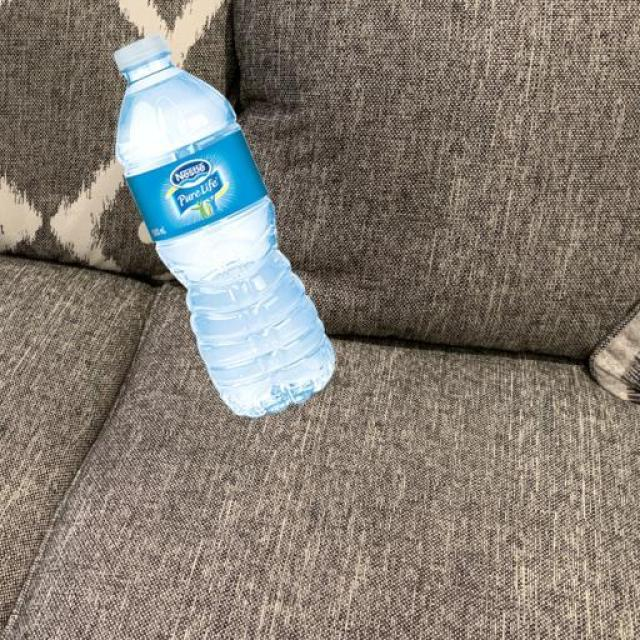bottle: (92, 11, 349, 433)
